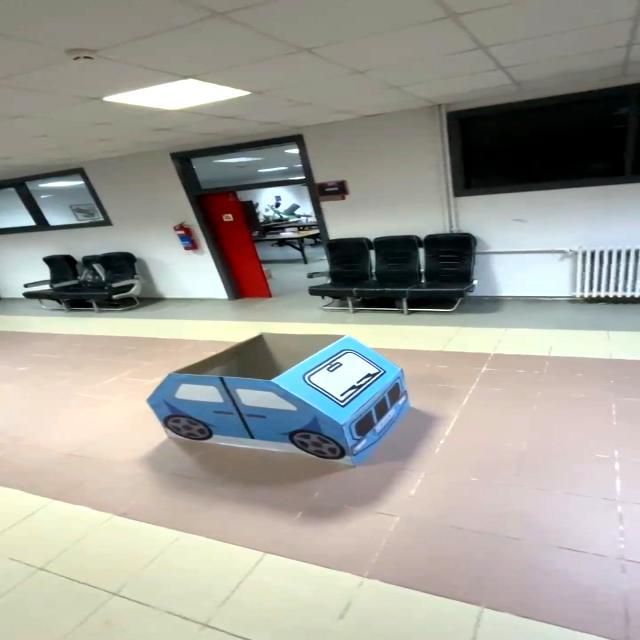blue_car: (100, 325, 445, 482)
